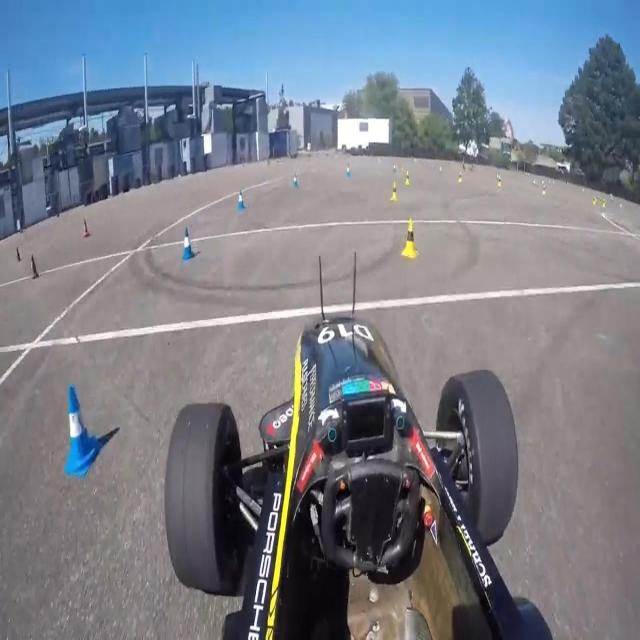blue_cone: (64, 384, 102, 482), (178, 223, 194, 261), (238, 188, 245, 211), (345, 162, 352, 178), (292, 172, 298, 190)
yellow_cone: (402, 213, 418, 260), (390, 182, 397, 202), (405, 169, 410, 186), (458, 171, 463, 184), (498, 175, 501, 188)
